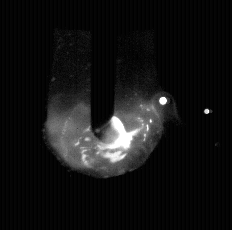arame: (91, 0, 116, 139)
poca: (44, 0, 163, 230)
